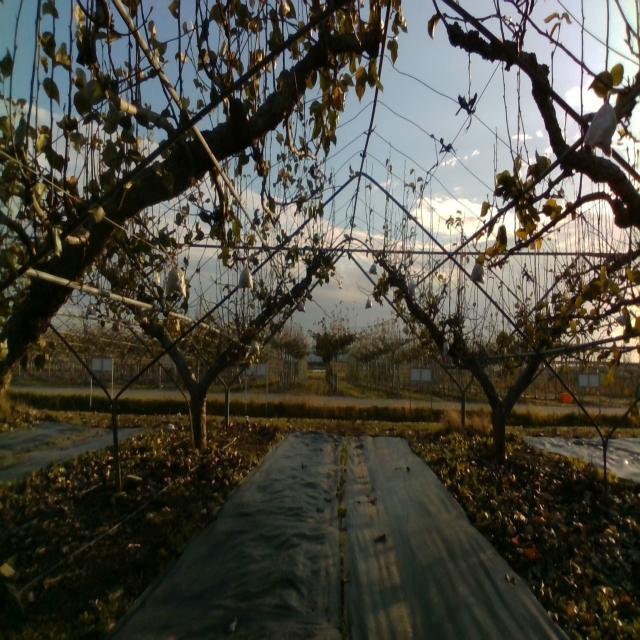pearbags: (581, 89, 617, 155), (162, 257, 186, 297), (238, 263, 253, 290), (470, 262, 484, 284)
